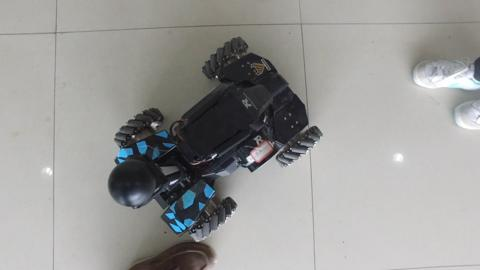chariot: (98, 41, 311, 231)
